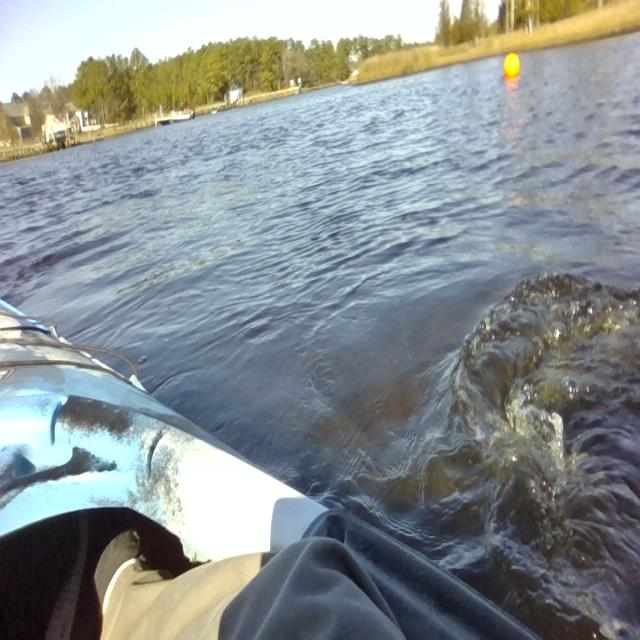Buoy: (501, 48, 523, 84)
